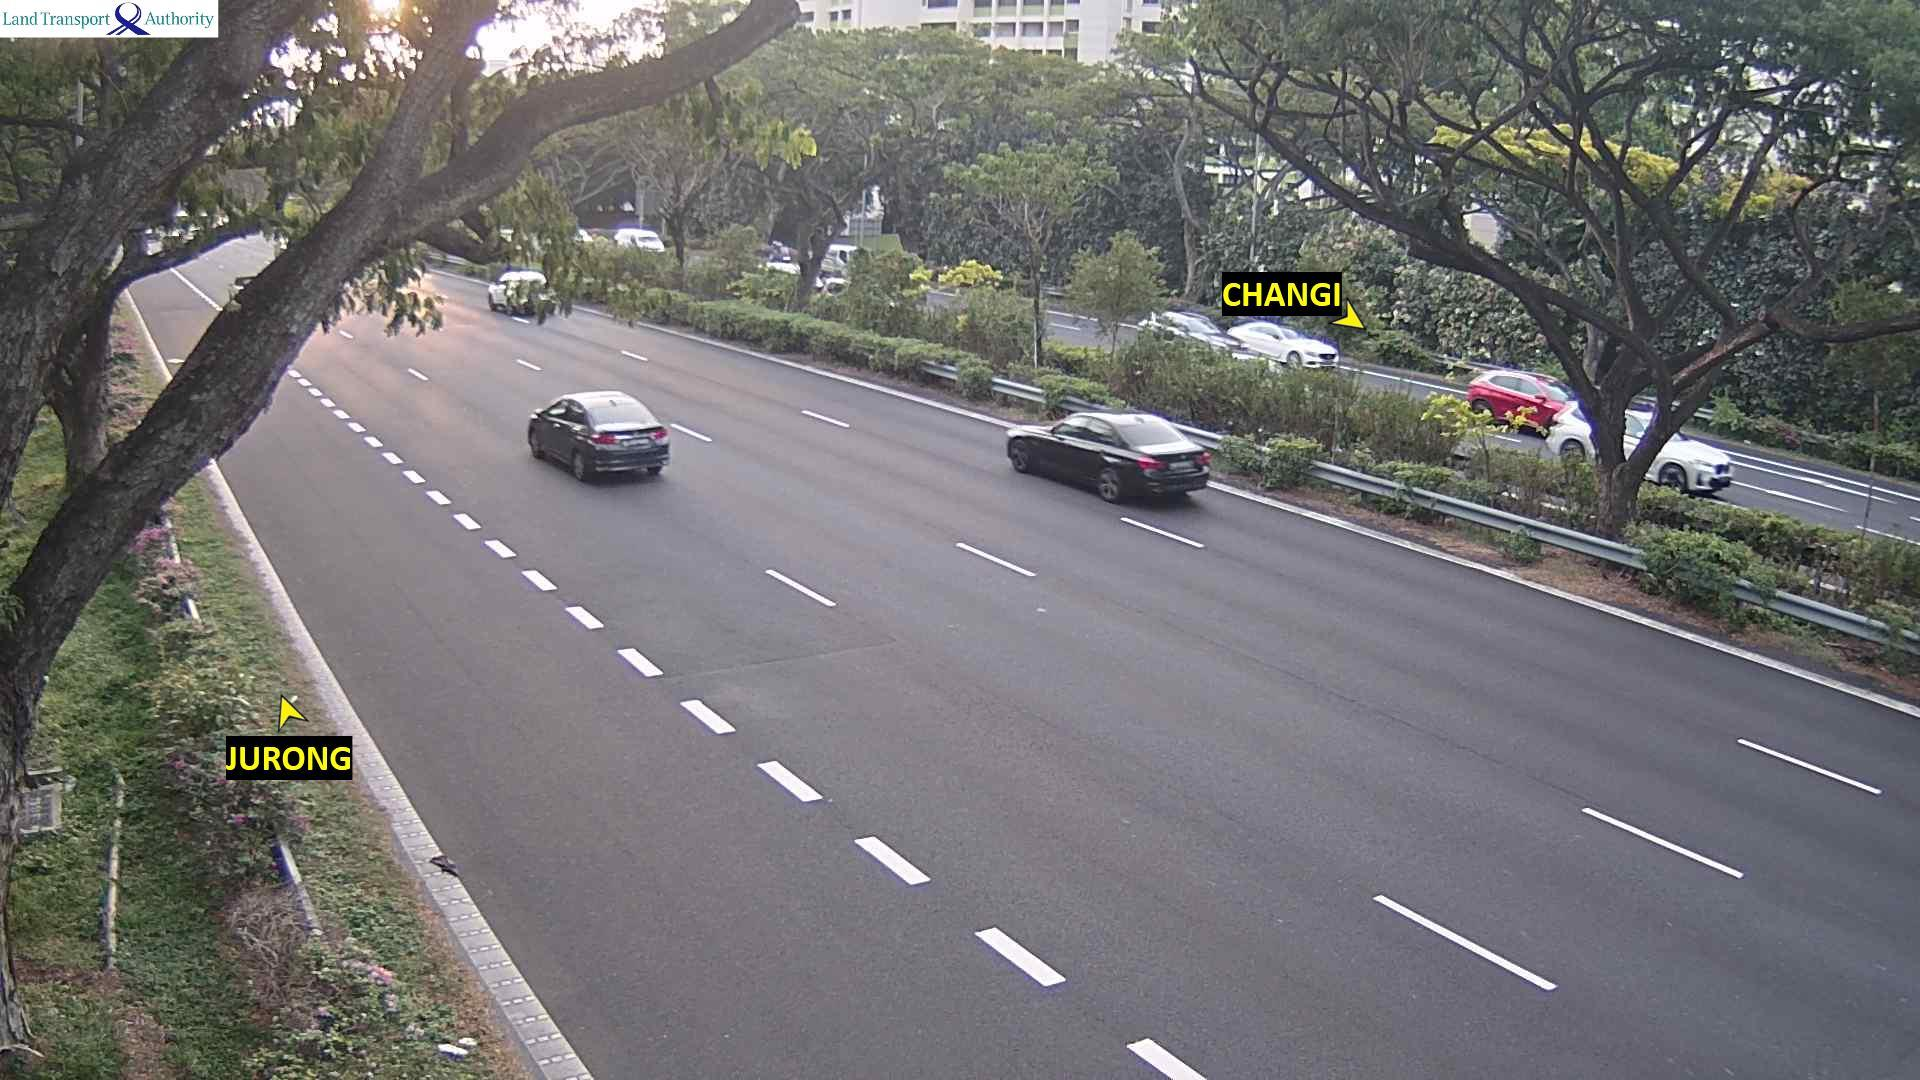cars: (1004, 407, 1211, 502), (1544, 396, 1733, 496), (526, 389, 670, 483), (1465, 367, 1575, 436), (1226, 319, 1338, 369), (1137, 309, 1241, 357), (487, 268, 551, 316), (222, 269, 272, 305), (613, 225, 665, 255), (823, 240, 862, 266)
